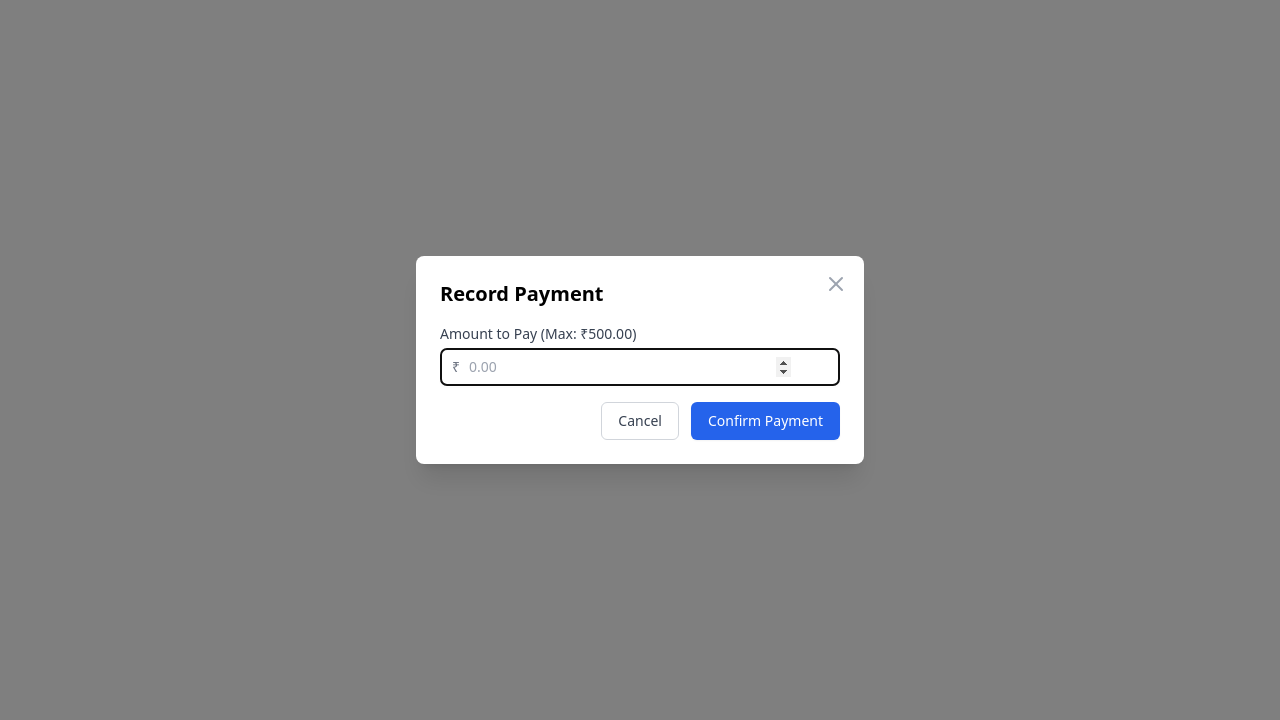
AddPaymentModal › keeps the entered amount and shows the server message when submission fails
Type "100" into the number field at (640, 367), box [440,348,840,386]
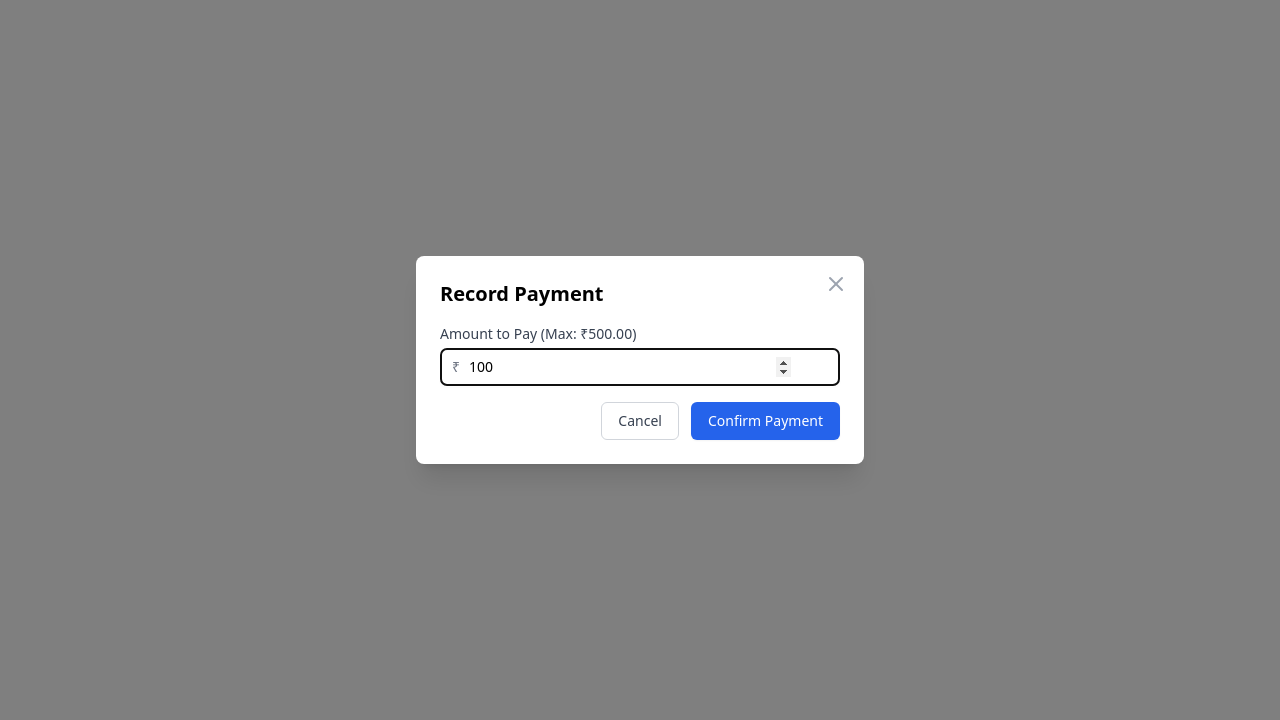
Click the button "Confirm Payment" at (765, 421), box [691,402,840,440]
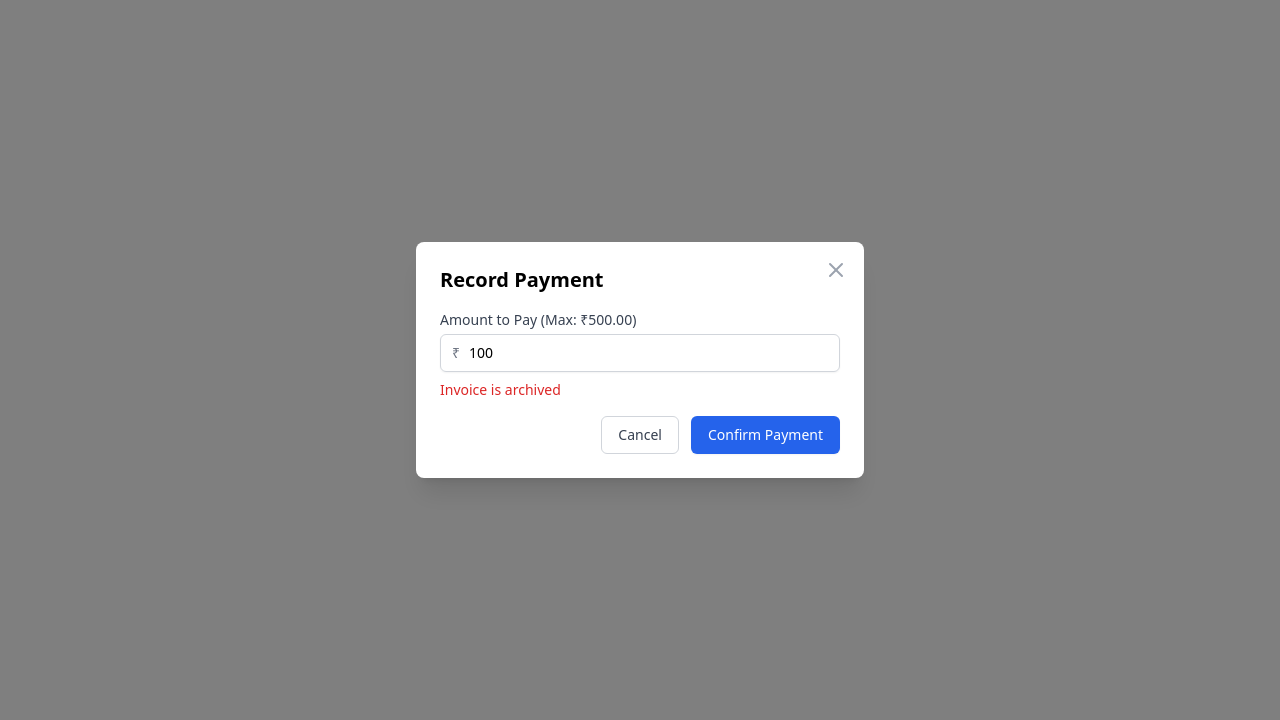
Expected: the text "Invoice is archived" is shown, [440,380,561,399]
